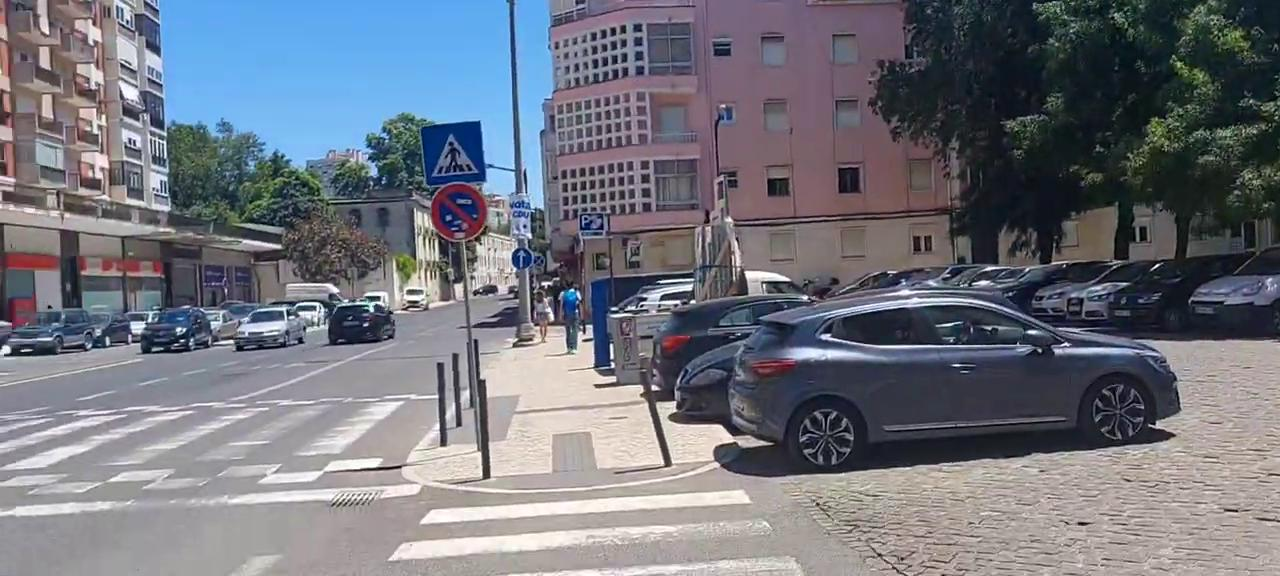estacionamento proibido: (420, 177, 496, 248)
passagem para peoes: (417, 119, 487, 189)
